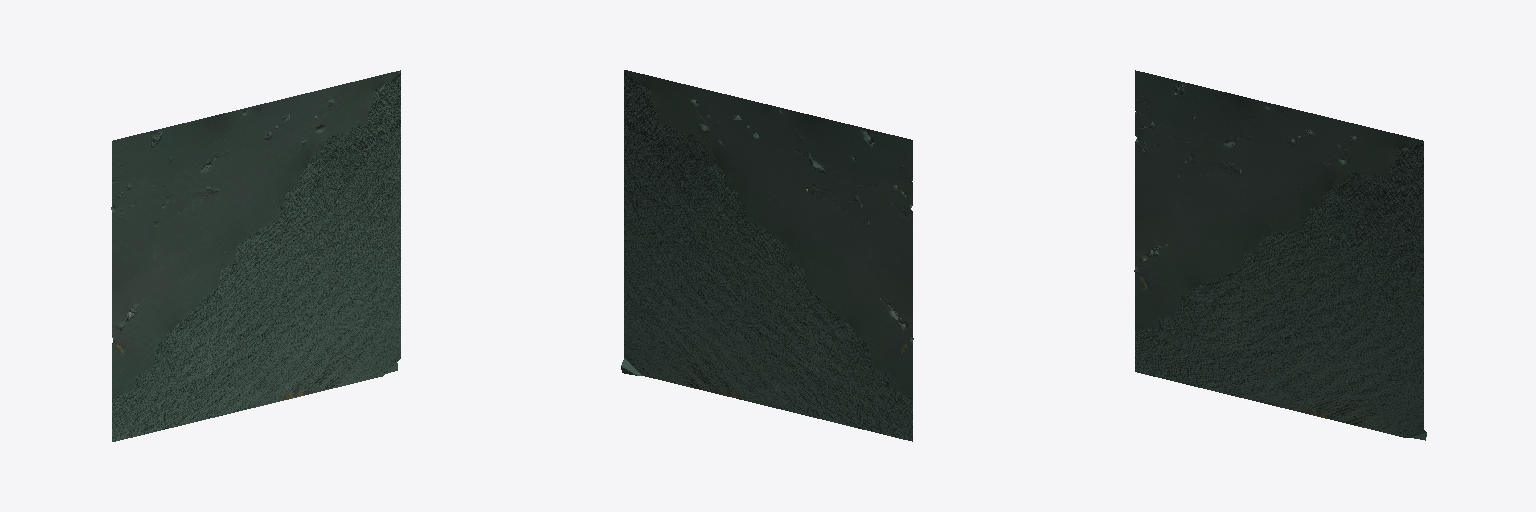
The picture shows the model from 3 angles: view 1: azimuth 30°, elevation 25°; view 2: azimuth 150°, elevation 25°; view 3: azimuth 330°, elevation 25°; orthographic projection.
Size of the model in its own units: 252 by 252 by 8.78.
2 materials, 1 textured.